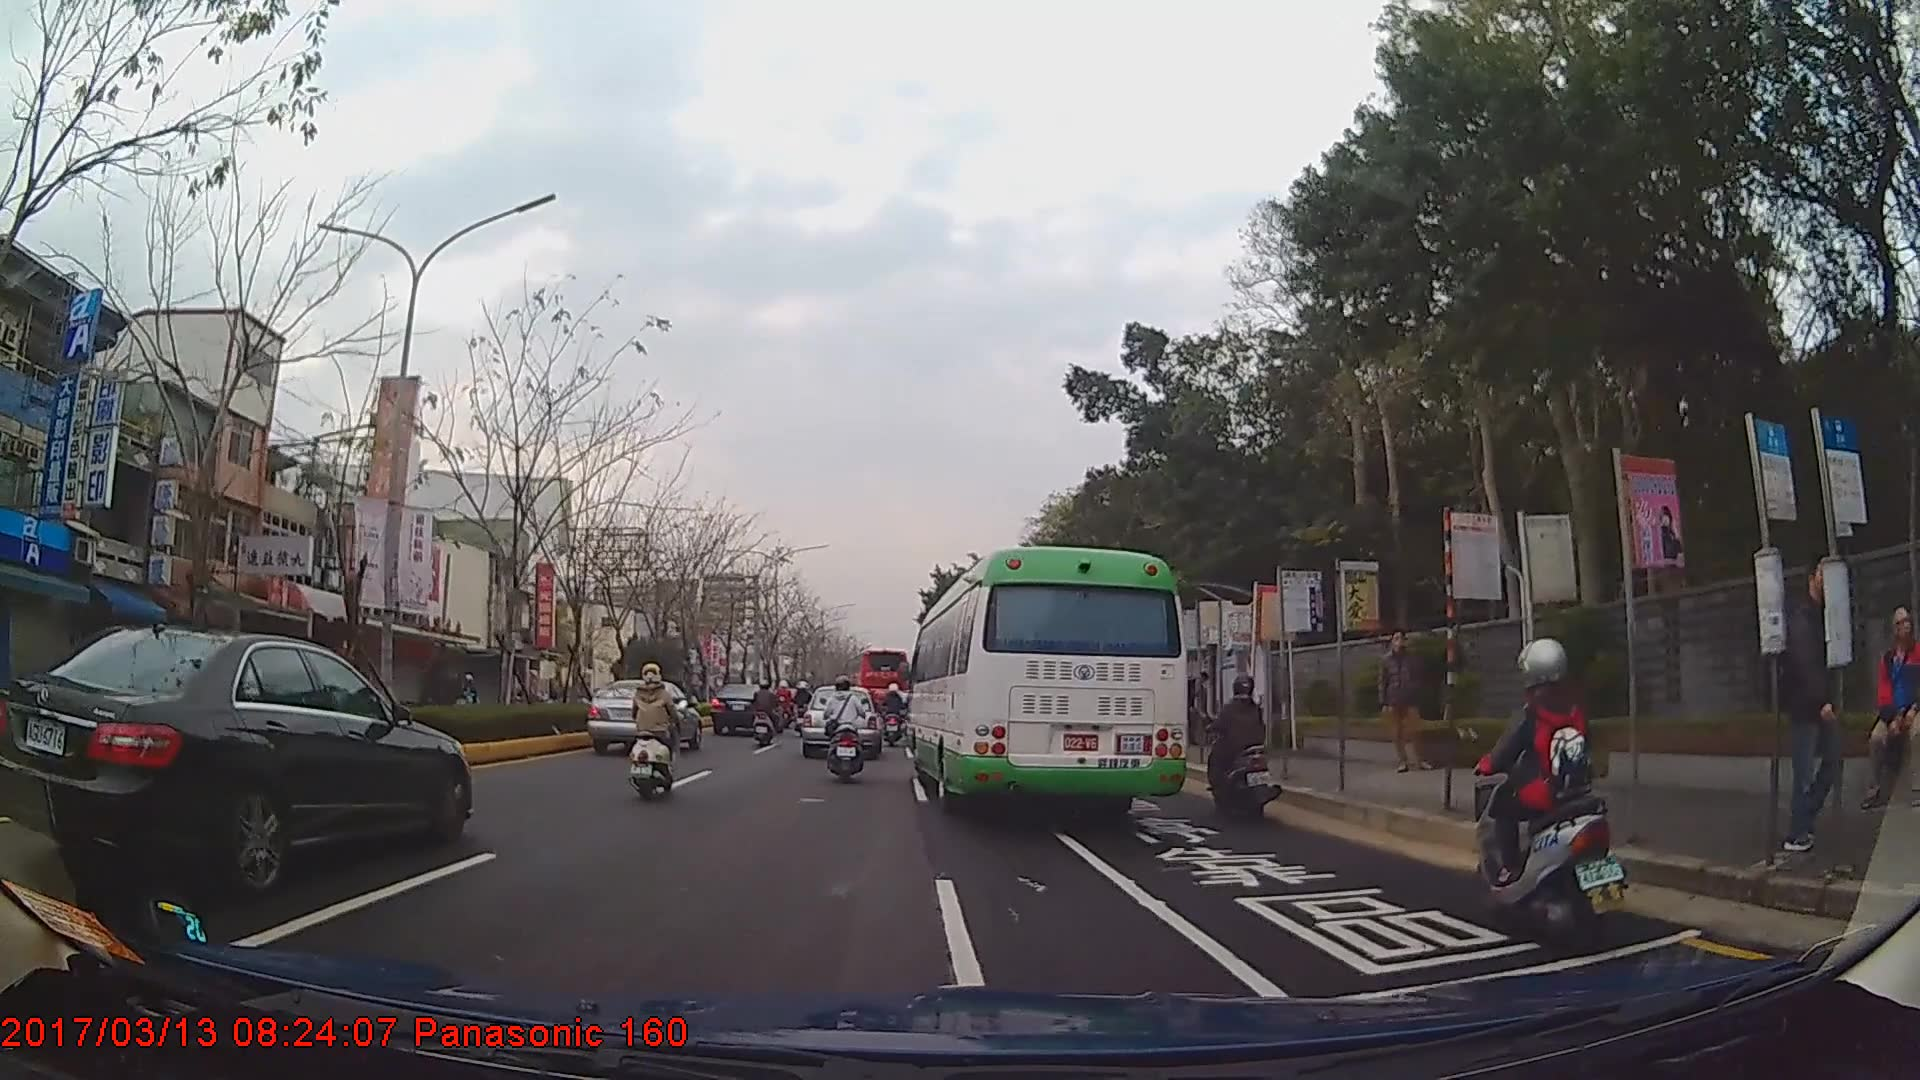pedestrian: (1785, 543, 1847, 858), (1868, 613, 1917, 804), (1379, 628, 1430, 772)
rider: (1468, 637, 1627, 936), (1199, 680, 1278, 822), (625, 668, 679, 802), (820, 679, 868, 784), (752, 680, 781, 751), (880, 683, 907, 736), (792, 680, 813, 725), (456, 674, 480, 706)
vehicle: (10, 624, 471, 890), (903, 545, 1188, 824), (585, 678, 702, 752), (801, 682, 879, 759), (844, 647, 911, 721), (710, 681, 780, 738)
